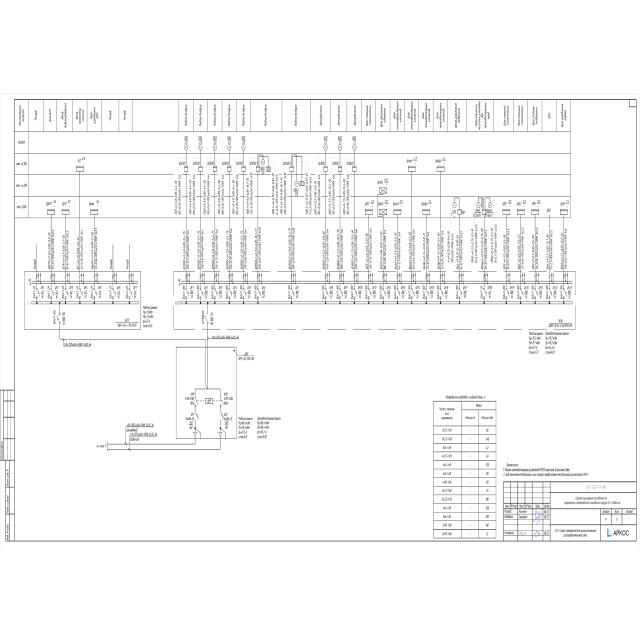-: (224, 417, 233, 429), (186, 416, 194, 429), (238, 356, 255, 362), (224, 396, 234, 406), (184, 396, 194, 405)
AVR: (192, 394, 225, 406)
QF: (194, 410, 199, 422), (219, 411, 224, 423)
